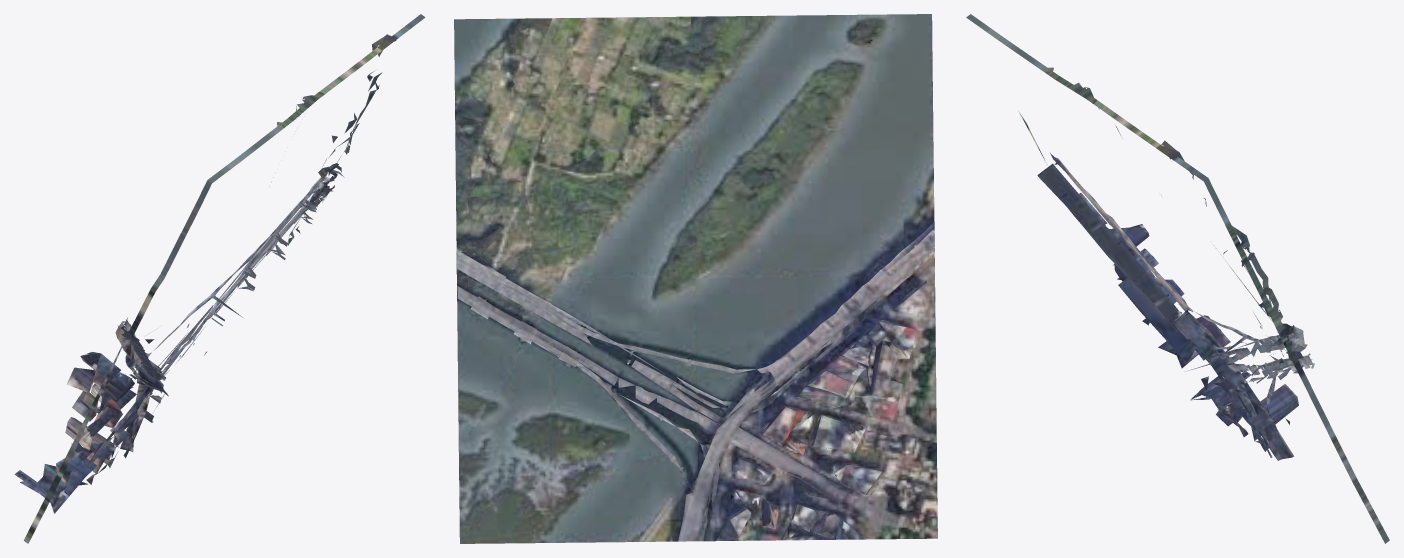
The picture shows the model from 3 angles, left to right: view 1: azimuth 30°, elevation 25°; view 2: azimuth 150°, elevation 25°; view 3: azimuth 270°, elevation 25°; orthographic projection. The views are drawn at different scales.
Bounding box in the file's own units: 612 × 559 × 517.
2 materials, 2 textured.
